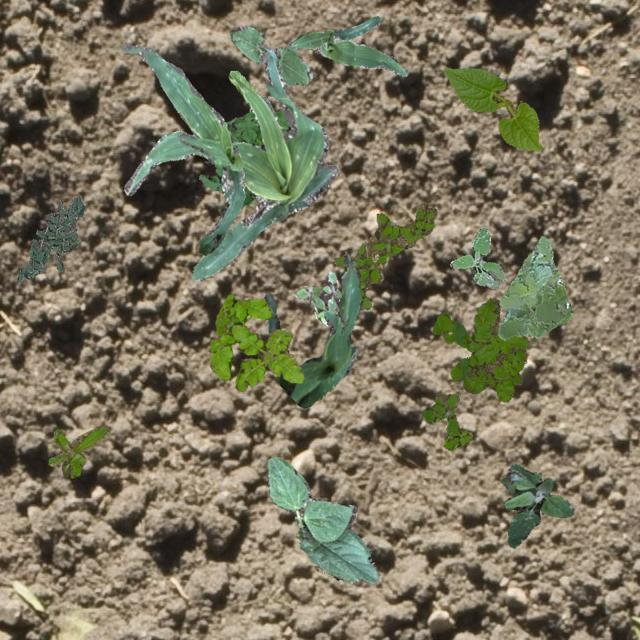crop: (123, 43, 337, 280), (120, 44, 244, 255), (264, 250, 359, 406), (266, 456, 380, 584), (442, 66, 540, 150), (284, 15, 408, 76), (230, 24, 312, 86)
weed: (333, 200, 437, 310), (432, 296, 528, 401), (208, 294, 302, 391), (198, 108, 290, 205), (498, 235, 572, 338), (500, 462, 572, 546), (16, 194, 84, 280), (448, 225, 506, 288), (48, 426, 108, 476), (422, 392, 472, 449), (294, 272, 340, 326)
